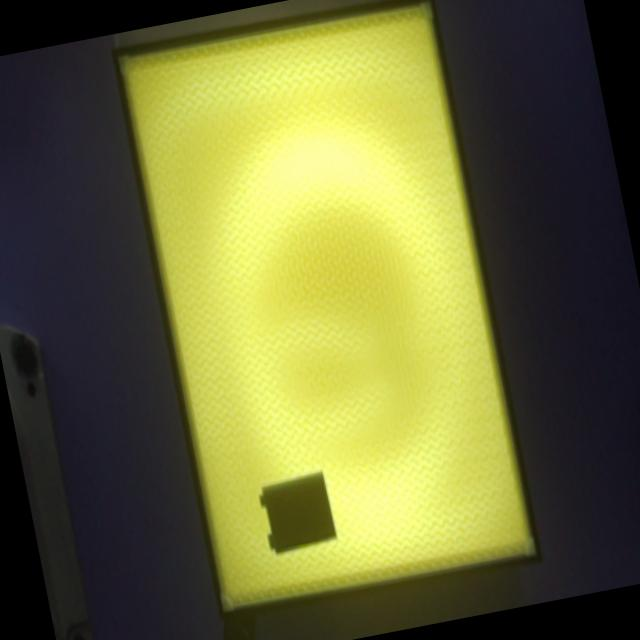bateria: (260, 472, 337, 553)
mesa: (112, 0, 543, 623)
